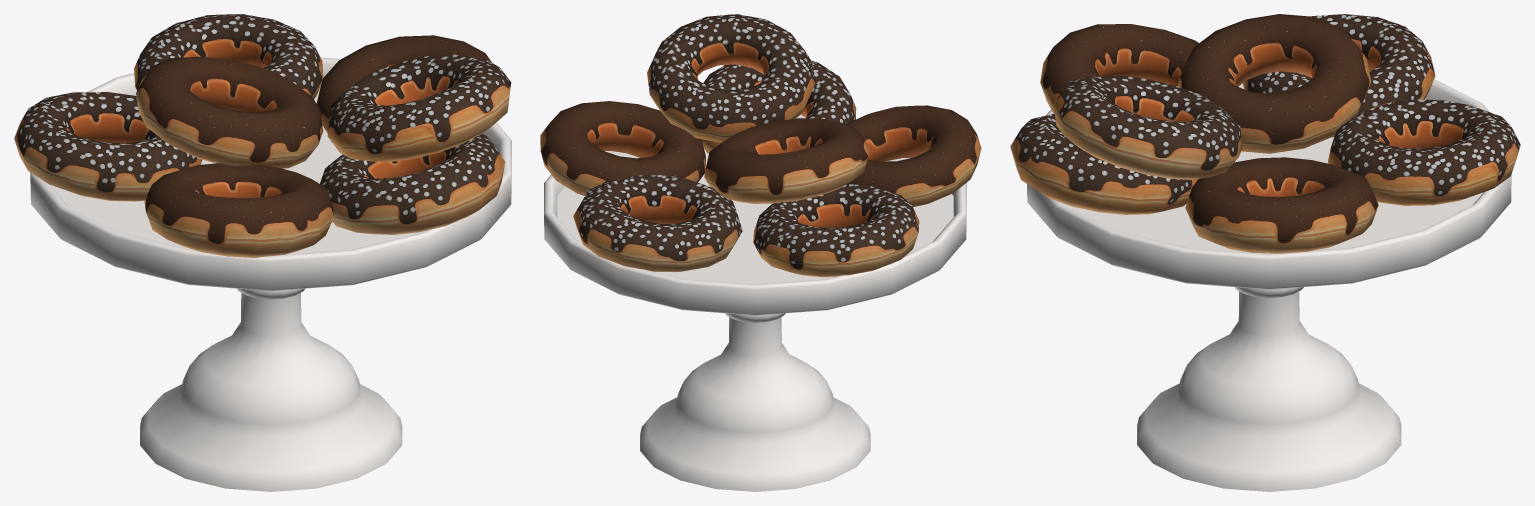
Rendered from BuffetDesserts02_3.FBX.
3 views of the same model, side by side, from view 1: azimuth 30°, elevation 25°; view 2: azimuth 150°, elevation 25°; view 3: azimuth 270°, elevation 25° (orthographic). The views are drawn at different scales.
Visible parts, largest first — view 1: BuffetDesserts02_3; view 2: BuffetDesserts02_3; view 3: BuffetDesserts02_3.
Boxes of the visible parts, x1=… form: BuffetDesserts02_3: x1=14, y1=14, x2=511, y2=491; BuffetDesserts02_3: x1=540, y1=14, x2=981, y2=491; BuffetDesserts02_3: x1=1010, y1=14, x2=1520, y2=491.
Size of what is drawn, in the model's own units: 0.4264 by 0.3637 by 0.4264.
